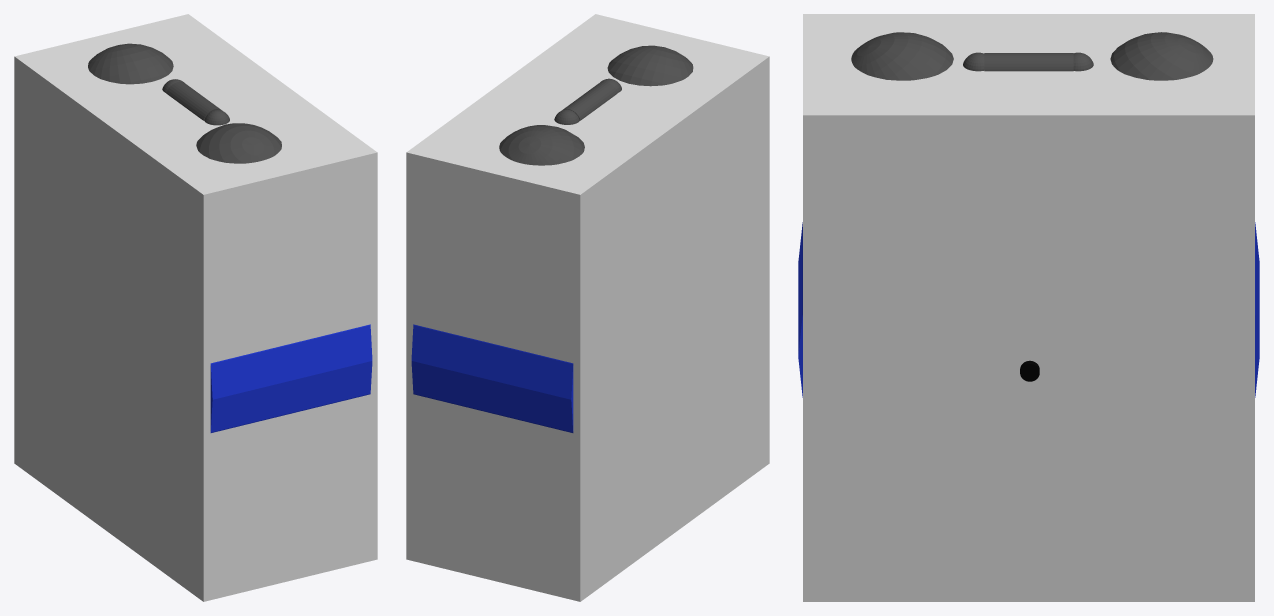
The model's file is clock.gltf.
3 views of the same model, side by side, from view 1: azimuth 30°, elevation 25°; view 2: azimuth 150°, elevation 25°; view 3: azimuth 270°, elevation 25° (orthographic). The views are drawn at different scales.
Parts seen in each view (by area): view 1: COL, Cylinder, Sphere.001, Sphere, Cylinder.005; view 2: COL, Cylinder, Sphere.001, Sphere, Cylinder.005; view 3: COL, Sphere.001, Sphere, Cylinder.005, Cylinder.
Boxes of the visible parts, x1=… form: COL: x1=14, y1=14, x2=377, y2=601; Cylinder: x1=210, y1=324, x2=372, y2=432; Sphere.001: x1=88, y1=43, x2=173, y2=84; Sphere: x1=196, y1=123, x2=281, y2=163; Cylinder.005: x1=162, y1=79, x2=229, y2=125; COL: x1=406, y1=14, x2=769, y2=601; Cylinder: x1=411, y1=324, x2=573, y2=432; Sphere.001: x1=499, y1=125, x2=584, y2=165; Sphere: x1=607, y1=45, x2=693, y2=86; Cylinder.005: x1=554, y1=78, x2=621, y2=124; COL: x1=803, y1=14, x2=1254, y2=601; Sphere.001: x1=1110, y1=32, x2=1213, y2=80; Sphere: x1=851, y1=32, x2=953, y2=80; Cylinder.005: x1=963, y1=52, x2=1093, y2=71; Cylinder: x1=798, y1=222, x2=1259, y2=397.
Size of the model in its own units: 3.5 by 7.92 by 6.53.
